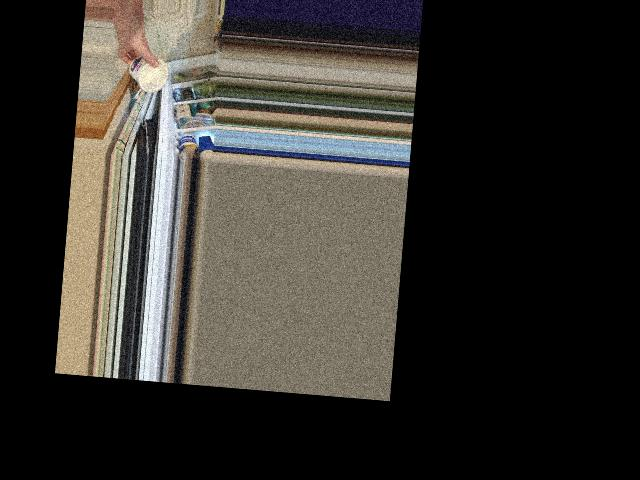cotage: (125, 53, 167, 93)
